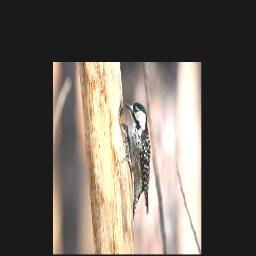Woodpecker: (121, 101, 150, 219)
